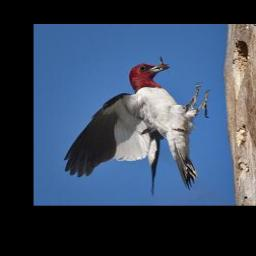Woodpecker: (63, 59, 209, 195)
